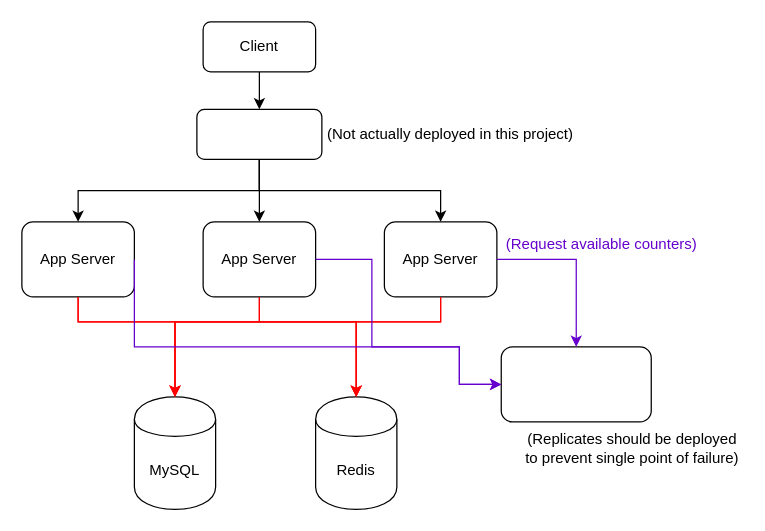
Image size: 765x531. Some labels were removed from this diagram. The shapes that lost their labels are listed below. From the top down, each one's centre as x and y in pixels, then its label:
pixel 259 133: NginX
pixel 575 384: Counter Dispatcher
